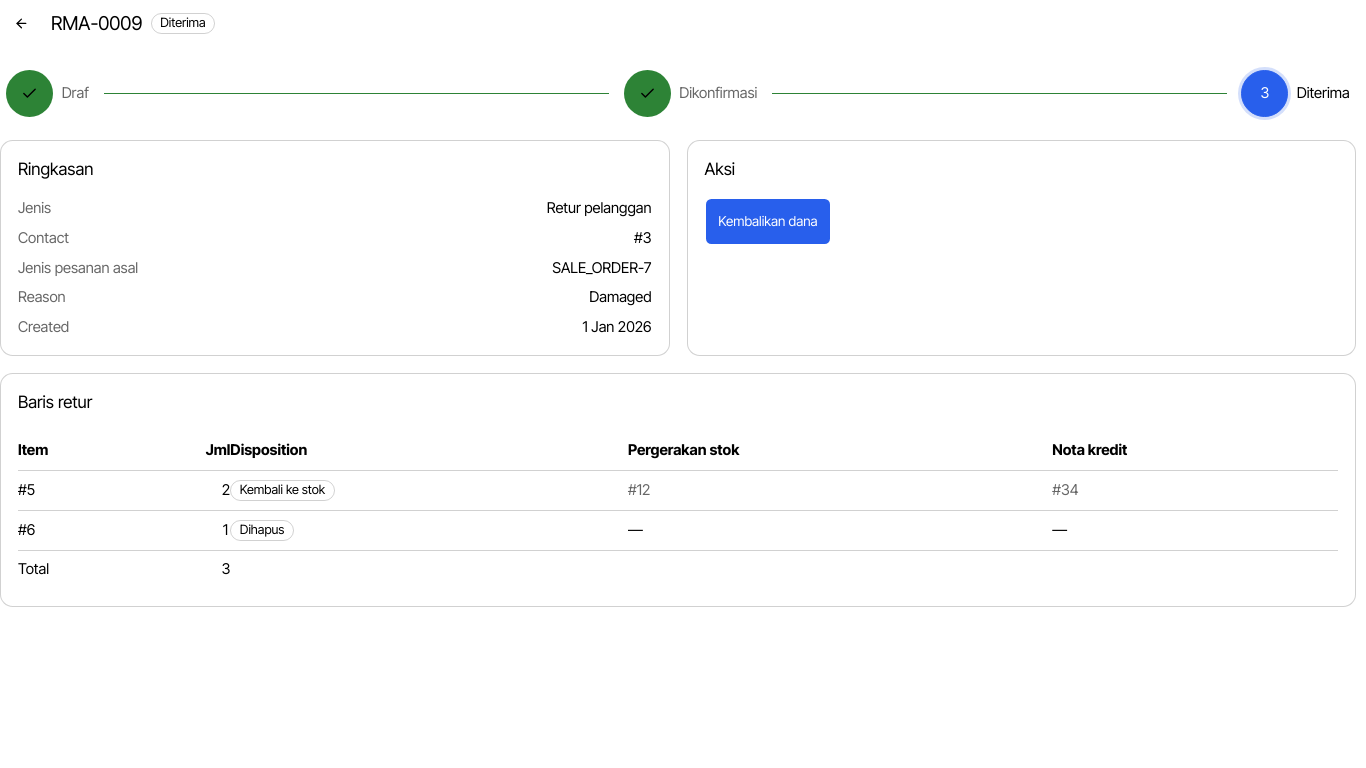
Test: RmaDetailSection remainder › opens the refund dialog for a received rma
This screenshot has width=1366, height=768.
Expected: the heading "RMA-0009" is shown, [51,8,142,38]
Click the button "Kembalikan dana".
click(768, 222)  # box [704,198,831,245]
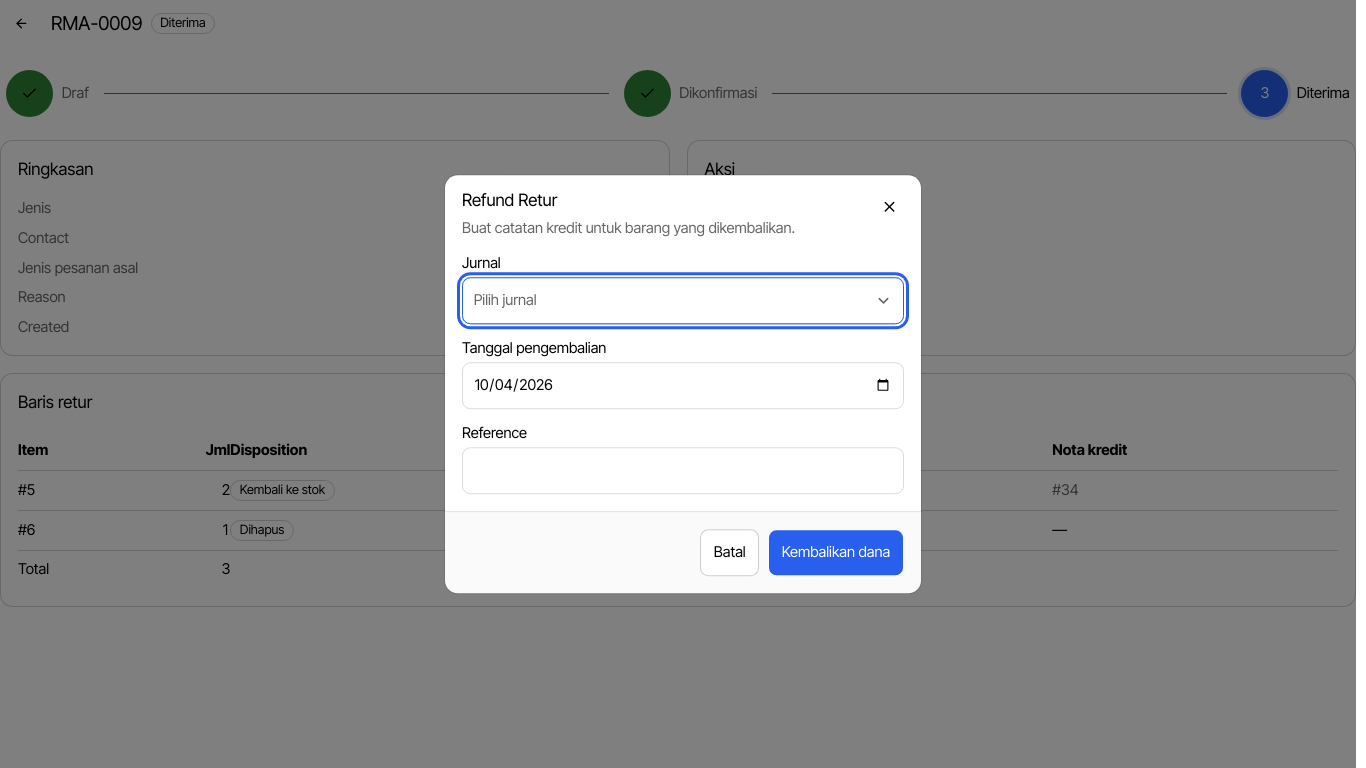
Expected: the heading "Refund Retur" is shown, [462,190,557,210]
